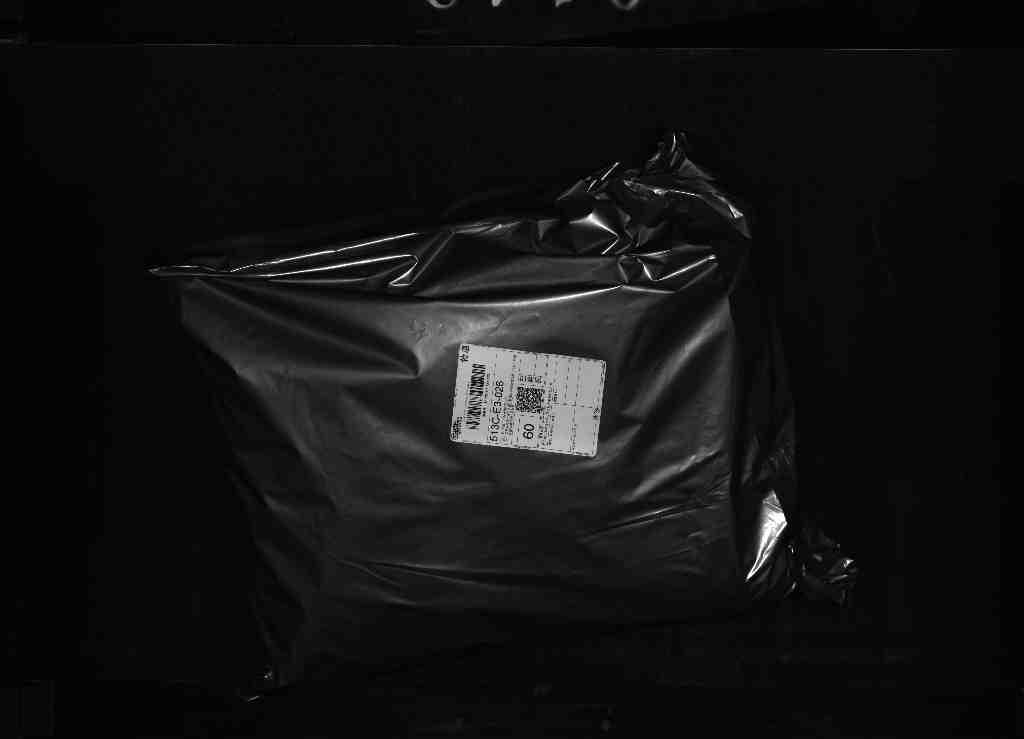box: (153, 149, 858, 697)
